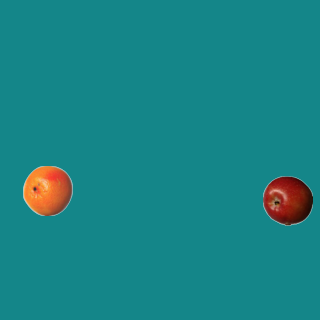Apple Braeburn: (262, 175, 312, 225)
Grapefruit Pink: (22, 165, 72, 215)
